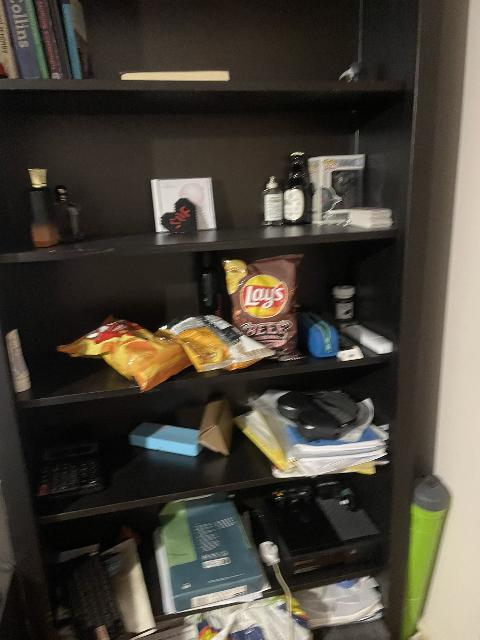Chio Cascaval 125g: (57, 315, 193, 392)
Chio Hula Hoops Cheese 70g: (155, 316, 277, 374)
Lays Beef Grilled Ribs 125g: (225, 254, 306, 361)
